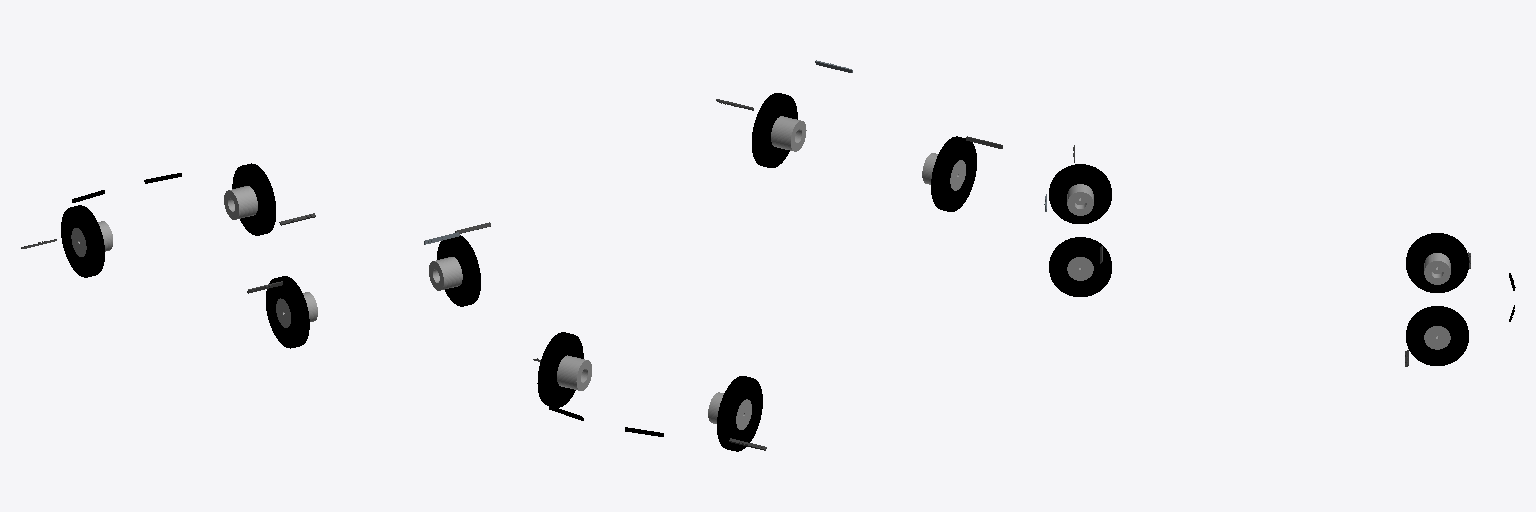
The robot description file, URDF, robot "cybertruck_robot":
<robot name="cybertruck_robot">
<link name="part_1">
<visual>
<origin xyz="0.018307878525622933719 -0.030594958869703717252 0.001643231750324782546" rpy="-0.21297553253301976239 5.557129253135231024e-10 -4.9321720715821796425e-09" />
<geometry>
<mesh filename="package://cybertruck_description/cybertruck/part_1.stl"/>
</geometry>
<material name="part_1_material">
<color rgba="0.43921568627450979783 0.47450980392156860699 0.50196078431372548323 1.0"/>
</material>
</visual>
<collision>
<origin xyz="0.018307878525622933719 -0.030594958869703717252 0.001643231750324782546" rpy="-0.21297553253301976239 5.557129253135231024e-10 -4.9321720715821796425e-09" />
<geometry>
<mesh filename="package://cybertruck_description/cybertruck/part_1.stl"/>
</geometry>
</collision>
<visual>
<origin xyz="0.033763294879191024789 0.001901468679141563858 -0.015010380092101944377" rpy="0.65103686779955938224 -5.5571146384450897115e-10 3.141592648657622" />
<geometry>
<mesh filename="package://cybertruck_description/cybertruck/part_3.stl"/>
</geometry>
<material name="part_3_material">
<color rgba="0 0 0 1.0"/>
</material>
</visual>
<collision>
<origin xyz="0.033763294879191024789 0.001901468679141563858 -0.015010380092101944377" rpy="0.65103686779955938224 -5.5571146384450897115e-10 3.141592648657622" />
<geometry>
<mesh filename="package://cybertruck_description/cybertruck/part_3.stl"/>
</geometry>
</collision>
<visual>
<origin xyz="-0.11073670512081248973 0.0019014693918404075926 -0.015010380011801445488" rpy="0.16241202732505288786 5.5571267971387066082e-10 -4.9321716748452895719e-09" />
<geometry>
<mesh filename="package://cybertruck_description/cybertruck/part_3.stl"/>
</geometry>
<material name="part_3_material">
<color rgba="0 0 0 1.0"/>
</material>
</visual>
<collision>
<origin xyz="-0.11073670512081248973 0.0019014693918404075926 -0.015010380011801445488" rpy="0.16241202732505288786 5.5571267971387066082e-10 -4.9321716748452895719e-09" />
<geometry>
<mesh filename="package://cybertruck_description/cybertruck/part_3.stl"/>
</geometry>
</collision>
<visual>
<origin xyz="-0.11073670512081248973 0.0019014693918404075926 -0.015010380011801445488" rpy="0.16241202732505288786 5.5571267971387066082e-10 -4.9321716748452895719e-09" />
<geometry>
<mesh filename="package://cybertruck_description/cybertruck/part_1.stl"/>
</geometry>
<material name="part_1_material">
<color rgba="0.30196078431372547213 0.30196078431372547213 0.30196078431372547213 1.0"/>
</material>
</visual>
<collision>
<origin xyz="-0.11073670512081248973 0.0019014693918404075926 -0.015010380011801445488" rpy="0.16241202732505288786 5.5571267971387066082e-10 -4.9321716748452895719e-09" />
<geometry>
<mesh filename="package://cybertruck_description/cybertruck/part_1.stl"/>
</geometry>
</collision>
<visual>
<origin xyz="-0.02593174574052149392 0.34415310902362844514 -0.10075260528693309736" rpy="0.17310062928363809109 0.022426489351057100896 3.0140387742795233805" />
<geometry>
<mesh filename="package://cybertruck_description/cybertruck/part_1.stl"/>
</geometry>
<material name="part_1_material">
<color rgba="0 0 0 1.0"/>
</material>
</visual>
<collision>
<origin xyz="-0.02593174574052149392 0.34415310902362844514 -0.10075260528693309736" rpy="0.17310062928363809109 0.022426489351057100896 3.0140387742795233805" />
<geometry>
<mesh filename="package://cybertruck_description/cybertruck/part_1.stl"/>
</geometry>
</collision>
<visual>
<origin xyz="-0.11073670374671130967 0.28735142788103906764 -0.075802871070333316394" rpy="-1.8813036670531162464 5.5571187601923304466e-10 -4.932173985335001745e-09" />
<geometry>
<mesh filename="package://cybertruck_description/cybertruck/part_1.stl"/>
</geometry>
<material name="part_1_material">
<color rgba="0.30196078431372547213 0.30196078431372547213 0.30196078431372547213 1.0"/>
</material>
</visual>
<collision>
<origin xyz="-0.11073670374671130967 0.28735142788103906764 -0.075802871070333316394" rpy="-1.8813036670531162464 5.5571187601923304466e-10 -4.932173985335001745e-09" />
<geometry>
<mesh filename="package://cybertruck_description/cybertruck/part_1.stl"/>
</geometry>
</collision>
<visual>
<origin xyz="-0.11073670374671130967 0.28735142788103906764 -0.075802871070333316394" rpy="-1.8813036670531162464 5.5571187601923304466e-10 -4.932173985335001745e-09" />
<geometry>
<mesh filename="package://cybertruck_description/cybertruck/part_3.stl"/>
</geometry>
<material name="part_3_material">
<color rgba="0 0 0 1.0"/>
</material>
</visual>
<collision>
<origin xyz="-0.11073670374671130967 0.28735142788103906764 -0.075802871070333316394" rpy="-1.8813036670531162464 5.5571187601923304466e-10 -4.932173985335001745e-09" />
<geometry>
<mesh filename="package://cybertruck_description/cybertruck/part_3.stl"/>
</geometry>
</collision>
<visual>
<origin xyz="0.033763294879191024789 0.001901468679141563858 -0.015010380092101944377" rpy="0.65103686779955938224 -5.5571146384450897115e-10 3.141592648657622" />
<geometry>
<mesh filename="package://cybertruck_description/cybertruck/part_1.stl"/>
</geometry>
<material name="part_1_material">
<color rgba="0.30196078431372547213 0.30196078431372547213 0.30196078431372547213 1.0"/>
</material>
</visual>
<collision>
<origin xyz="0.033763294879191024789 0.001901468679141563858 -0.015010380092101944377" rpy="0.65103686779955938224 -5.5571146384450897115e-10 3.141592648657622" />
<geometry>
<mesh filename="package://cybertruck_description/cybertruck/part_1.stl"/>
</geometry>
</collision>
<visual>
<origin xyz="-0.085942651763439084633 0.33967592224386289335 -0.099969758343487924446" rpy="0.17310062914221596708 -0.022426490453455724672 -3.0140387841406850455" />
<geometry>
<mesh filename="package://cybertruck_description/cybertruck/part_1.stl"/>
</geometry>
<material name="part_1_material">
<color rgba="0 0 0 1.0"/>
</material>
</visual>
<collision>
<origin xyz="-0.085942651763439084633 0.33967592224386289335 -0.099969758343487924446" rpy="0.17310062914221596708 -0.022426490453455724672 -3.0140387841406850455" />
<geometry>
<mesh filename="package://cybertruck_description/cybertruck/part_1.stl"/>
</geometry>
</collision>
<inertial>
<origin xyz="-0.038606346995551731049 0.13283439415054057453 -0.0023438513314362079999" rpy="0 0 0"/>
<mass value="38.268359742051835326" />
<inertia ixx="0.4977014073632882174" ixy="0.00070745264906414955658"  ixz="-0.00033633329603504339604" iyy="0.10742787032859259233" iyz="0.10014254345708270555" izz="0.49353209683007670527" />
</inertial>
</link>

<link name="part_2">
<visual>
<origin xyz="6.505213034913026604e-19 1.7347234759768070944e-18 -0.013749999999999998335" rpy="-1.570796326794896558 -1.570796326794896558 0" />
<geometry>
<mesh filename="package://cybertruck_description/cybertruck/part_2.stl"/>
</geometry>
<material name="part_2_material">
<color rgba="0.64705882352941179736 0.64705882352941179736 0.64705882352941179736 1.0"/>
</material>
</visual>
<collision>
<origin xyz="6.505213034913026604e-19 1.7347234759768070944e-18 -0.013749999999999998335" rpy="-1.570796326794896558 -1.570796326794896558 0" />
<geometry>
<mesh filename="package://cybertruck_description/cybertruck/part_2.stl"/>
</geometry>
</collision>
<inertial>
<origin xyz="-2.5609492364506605013e-19 2.6358247285309383424e-18 -0.0034957656063080554815" rpy="0 0 0"/>
<mass value="0.018932239501192930919" />
<inertia ixx="1.2814753500848308569e-06" ixy="-3.5568085978844062552e-23"  ixz="1.1409175286129718241e-30" iyy="1.2814753500848308569e-06" iyz="2.6500289126369403714e-31" izz="1.1426994969490393846e-06" />
</inertial>
</link>

<joint name="rightb" type="revolute">
<origin xyz="-0.096986705120812491399 0.0019014693240230469244 -0.01501038001944249474" rpy="1.5707963273580198837 -0.16241202732505286011 1.5707963217716685023" />
<parent link="part_1" />
<child link="part_2" />
<axis xyz="0 0 1"/>
<limit effort="1" velocity="20" />
<joint_properties friction="0.0"/>
</joint>

<link name="part_2_2">
<visual>
<origin xyz="-2.0816681711721685133e-17 5.5511151231257827021e-17 -0.013749999999999998335" rpy="-1.570796326794896558 -1.570796326794896558 0" />
<geometry>
<mesh filename="package://cybertruck_description/cybertruck/part_2.stl"/>
</geometry>
<material name="part_2_material">
<color rgba="0.64705882352941179736 0.64705882352941179736 0.64705882352941179736 1.0"/>
</material>
</visual>
<collision>
<origin xyz="-2.0816681711721685133e-17 5.5511151231257827021e-17 -0.013749999999999998335" rpy="-1.570796326794896558 -1.570796326794896558 0" />
<geometry>
<mesh filename="package://cybertruck_description/cybertruck/part_2.stl"/>
</geometry>
</collision>
<inertial>
<origin xyz="-2.1723297947075093848e-17 5.641225249017353175e-17 -0.0034957656063080554815" rpy="0 0 0"/>
<mass value="0.018932239501192930919" />
<inertia ixx="1.2814753500848312804e-06" ixy="-2.1990001605735576977e-55"  ixz="-2.2195563056203157584e-31" iyy="1.2814753500848312804e-06" iyz="8.7454095942756596751e-31" izz="1.1426994969490393846e-06" />
</inertial>
</link>

<joint name="fright" type="revolute">
<origin xyz="-0.096986703746711311336 0.28735142781322164929 -0.075802871077974356973" rpy="-1.5707963286136721326 1.2602889865366786459 -1.5707963334588699311" />
<parent link="part_1" />
<child link="part_2_2" />
<axis xyz="0 0 1"/>
<limit effort="1" velocity="20" />
<joint_properties friction="0.0"/>
</joint>

<link name="part_2_3">
<visual>
<origin xyz="0 2.7755575615628913511e-17 -0.013750000000000005274" rpy="1.5707963267948956698 -1.570796326794896558 0" />
<geometry>
<mesh filename="package://cybertruck_description/cybertruck/part_1.stl"/>
</geometry>
<material name="part_1_material">
<color rgba="0.30196078431372547213 0.30196078431372547213 0.30196078431372547213 1.0"/>
</material>
</visual>
<collision>
<origin xyz="0 2.7755575615628913511e-17 -0.013750000000000005274" rpy="1.5707963267948956698 -1.570796326794896558 0" />
<geometry>
<mesh filename="package://cybertruck_description/cybertruck/part_1.stl"/>
</geometry>
</collision>
<visual>
<origin xyz="0 2.7755575615628913511e-17 -0.013750000000000005274" rpy="-1.570796326794896558 -1.570796326794896558 0" />
<geometry>
<mesh filename="package://cybertruck_description/cybertruck/part_2.stl"/>
</geometry>
<material name="part_2_material">
<color rgba="0.64705882352941179736 0.64705882352941179736 0.64705882352941179736 1.0"/>
</material>
</visual>
<collision>
<origin xyz="0 2.7755575615628913511e-17 -0.013750000000000005274" rpy="-1.570796326794896558 -1.570796326794896558 0" />
<geometry>
<mesh filename="package://cybertruck_description/cybertruck/part_2.stl"/>
</geometry>
</collision>
<visual>
<origin xyz="0 2.7755575615628913511e-17 -0.013750000000000005274" rpy="1.5707963267948961139 -1.570796326794896558 0" />
<geometry>
<mesh filename="package://cybertruck_description/cybertruck/part_3.stl"/>
</geometry>
<material name="part_3_material">
<color rgba="0 0 0 1.0"/>
</material>
</visual>
<collision>
<origin xyz="0 2.7755575615628913511e-17 -0.013750000000000005274" rpy="1.5707963267948961139 -1.570796326794896558 0" />
<geometry>
<mesh filename="package://cybertruck_description/cybertruck/part_3.stl"/>
</geometry>
</collision>
<inertial>
<origin xyz="1.1966629383687117372e-18 2.5357252631149674669e-17 -0.00350212719107534853" rpy="0 0 0"/>
<mass value="0.092776419910611848674" />
<inertia ixx="3.1319450302465443839e-05" ixy="-1.4424199121783715634e-20"  ixz="-1.1490979206244150031e-21" iyy="3.1319450302465484497e-05" iyz="-2.516063789695132658e-22" izz="5.0385621045833947163e-05" />
</inertial>
</link>

<joint name="fleft" type="revolute">
<origin xyz="0.020013296253292199578 0.28735142723615747506 -0.075802871142992792053" rpy="1.5707963254239905027 -1.1534217829653337084 -1.5707963304738461474" />
<parent link="part_1" />
<child link="part_2_3" />
<axis xyz="0 0 1"/>
<limit effort="1" velocity="20" />
<joint_properties friction="0.0"/>
</joint>

<link name="part_2_4">
<visual>
<origin xyz="1.7347234759768070944e-18 1.7347234759768070944e-18 -0.013750000000000001804" rpy="-1.570796326794896558 -1.570796326794896558 0" />
<geometry>
<mesh filename="package://cybertruck_description/cybertruck/part_2.stl"/>
</geometry>
<material name="part_2_material">
<color rgba="0.64705882352941179736 0.64705882352941179736 0.64705882352941179736 1.0"/>
</material>
</visual>
<collision>
<origin xyz="1.7347234759768070944e-18 1.7347234759768070944e-18 -0.013750000000000001804" rpy="-1.570796326794896558 -1.570796326794896558 0" />
<geometry>
<mesh filename="package://cybertruck_description/cybertruck/part_2.stl"/>
</geometry>
</collision>
<inertial>
<origin xyz="8.2810724168366296975e-19 2.6358247295912012954e-18 -0.0034957656063080589509" rpy="0 0 0"/>
<mass value="0.018932239501192930919" />
<inertia ixx="1.2814753500848312804e-06" ixy="-1.4227234391537625021e-22"  ixz="-5.0130760872627991272e-31" iyy="1.2814753500848308569e-06" iyz="5.1565669562683390592e-31" izz="1.1426994969490393846e-06" />
</inertial>
</link>

<joint name="bleft" type="revolute">
<origin xyz="0.020013294879191026454 0.0019014687469589204062 -0.015010380084460912473" rpy="1.5707963260962891638 -0.65103686779955827202 -1.5707963313037036635" />
<parent link="part_1" />
<child link="part_2_4" />
<axis xyz="0 0 1"/>
<limit effort="1" velocity="20" />
<joint_properties friction="0.0"/>
</joint>


</robot>

--- Render facts (derived) ---
3 views of the same robot in one strip: view 1: azimuth 30°, elevation 25°; view 2: azimuth 150°, elevation 25°; view 3: azimuth 270°, elevation 25° (orthographic).
Robot: cybertruck_robot — 5 links, 4 joints (4 revolute); root link part_1; default pose: every joint at zero.
Visible links, largest first — view 1: part_1, part_2_3, part_2_4, part_2, part_2_2; view 2: part_1, part_2_3, part_2_4, part_2_2, part_2; view 3: part_1, part_2_3, part_2_2, part_2.
Link boxes in pixels (box(x1,y1,x2,y2)): part_1: box(21, 173, 490, 348); part_2_3: box(224, 163, 315, 235); part_2_4: box(429, 257, 462, 290); part_2: box(276, 292, 317, 327); part_2_2: box(71, 221, 112, 256); part_1: box(549, 60, 1002, 451); part_2_3: box(533, 332, 591, 407); part_2_4: box(771, 116, 806, 151); part_2_2: box(708, 392, 751, 429); part_2: box(922, 153, 965, 190); part_1: box(1044, 145, 1515, 321); part_2_3: box(1405, 306, 1468, 366); part_2_2: box(1424, 253, 1450, 284); part_2: box(1067, 184, 1093, 215).
Size in the robot's own frame: 0.2077 by 0.3767 by 0.1301 metres.
15 mesh visuals loaded from 3 distinct referenced files (3 binary STL).